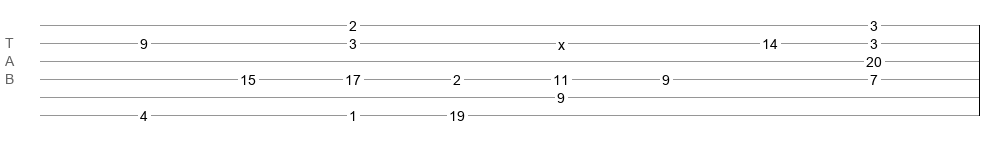1: (349, 108, 357, 118)
11: (553, 72, 569, 82)
14: (762, 36, 778, 46)
15: (240, 72, 256, 82)
17: (345, 72, 361, 82)
19: (449, 108, 465, 118)
2: (349, 18, 357, 28), (453, 72, 461, 82)
20: (866, 54, 882, 64)
3: (349, 36, 357, 46), (870, 18, 878, 28), (870, 36, 878, 46)
4: (140, 108, 148, 118)
7: (870, 72, 878, 82)
9: (140, 36, 148, 46), (557, 90, 565, 100), (662, 72, 670, 82)
x: (558, 37, 565, 45)
